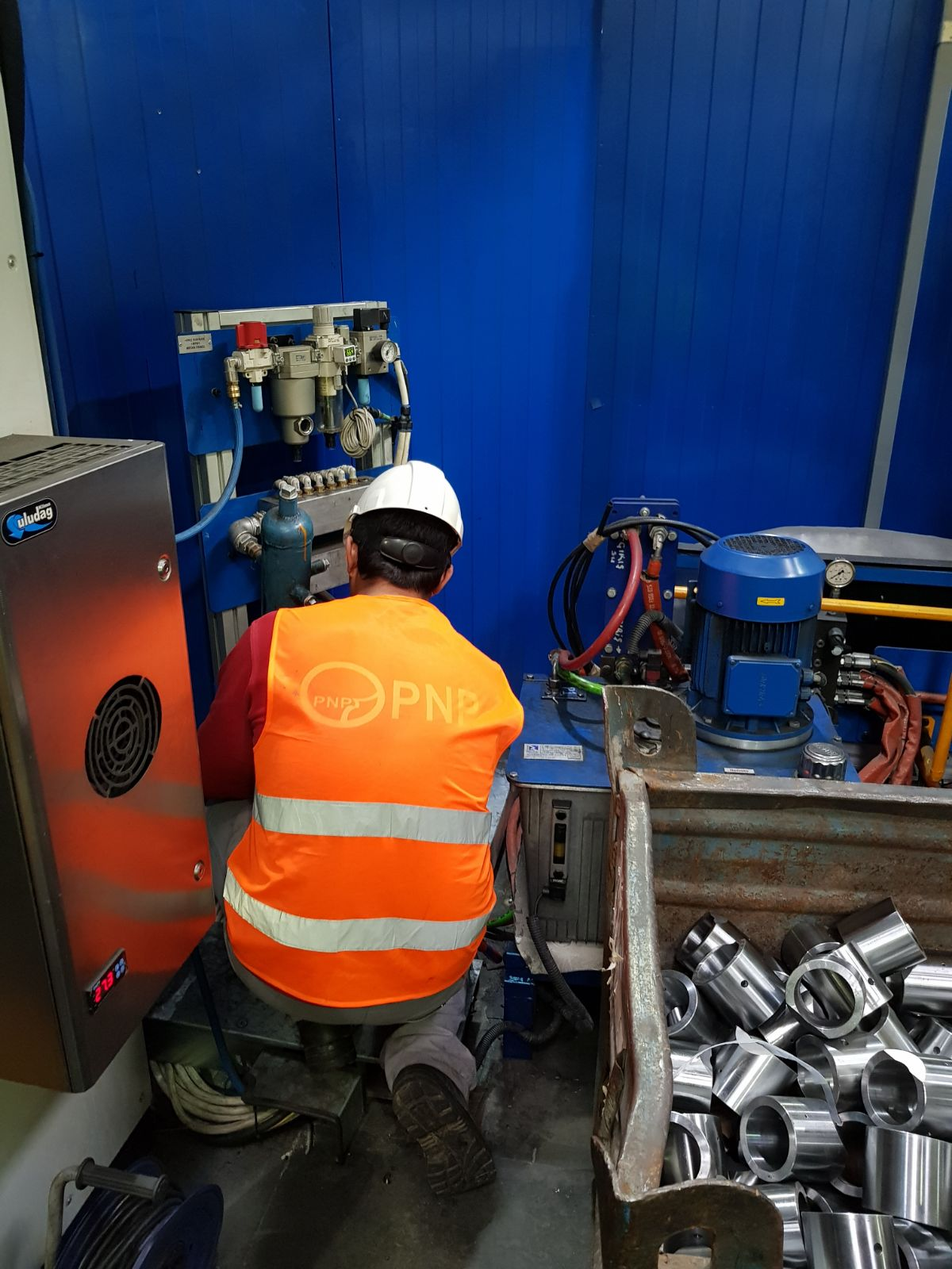safety_helmet: (345, 458, 464, 559)
